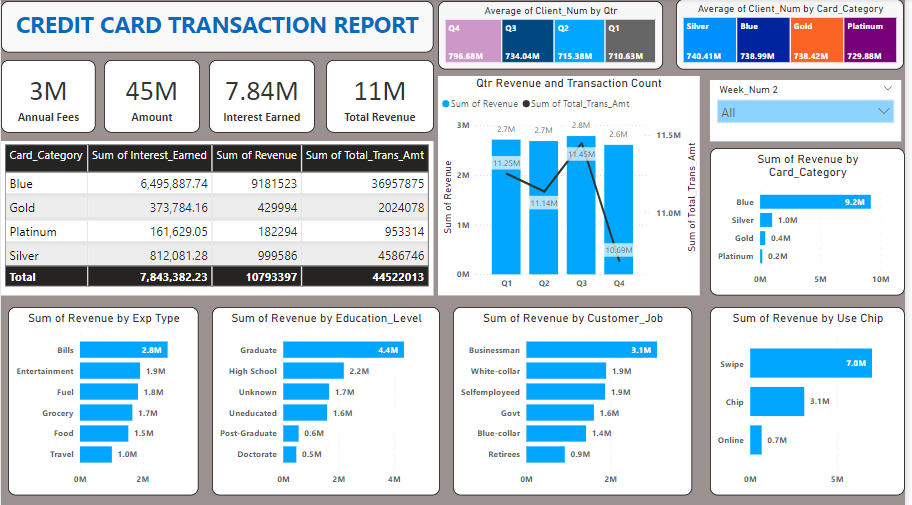

Layout of this report page (visuals, bound fields, positions):
{"tool":"powerbi","page":{"name":"CC Transaction","canvas":[1280,720],"ordinal":0},"visuals":[{"type":"textbox","box":[0,2.9,612.9,72.9],"z":0},{"type":"lineStackedColumnComboChart","title":"Qtr Revenue and Transaction Count","fields":{"Category":["credit_card.Qtr"],"Y":["Sum(credit_card.Revenue)"],"Y2":["Sum(credit_card.Total_Trans_Amt)"]},"box":[620,108.6,371.4,311.4],"z":1000},{"type":"actionButton","box":[0,0,100,40],"z":2000},{"type":"clusteredBarChart","fields":{"Y":["Sum(credit_card.Revenue)"],"Category":["credit_card.Exp Type"]},"box":[10,437.1,270,267.1],"z":3000},{"type":"clusteredBarChart","fields":{"Y":["Sum(credit_card.Revenue)"],"Category":["customer.Education_Level"]},"box":[298.6,437.1,322.9,267.1],"z":4000},{"type":"clusteredBarChart","fields":{"Y":["Sum(credit_card.Revenue)"],"Category":["customer.Customer_Job"]},"box":[640,437.1,338.6,267.1],"z":5000},{"type":"clusteredBarChart","fields":{"Y":["Sum(credit_card.Revenue)"],"Category":["credit_card.Card_Category"]},"box":[1004.3,211.4,275.7,208.6],"z":6000},{"type":"clusteredBarChart","fields":{"Y":["Sum(credit_card.Revenue)"],"Category":["credit_card.Use Chip"]},"box":[1004.3,437.1,275.7,267.1],"z":7000},{"type":"tableEx","fields":{"Values":["credit_card.Card_Category","Sum(credit_card.Interest_Earned)","Sum(credit_card.Revenue)","Sum(credit_card.Total_Trans_Amt)"]},"box":[0,201.4,612.9,218.6],"z":8000},{"type":"card","fields":{"Values":["Sum(credit_card.Revenue)"]},"box":[460,87.1,152.9,102.9],"z":9000},{"type":"card","fields":{"Values":["Sum(credit_card.Interest_Earned)"]},"box":[294.3,87.1,150,102.9],"z":10000},{"type":"card","fields":{"Values":["Sum(credit_card.Total_Trans_Amt)"]},"box":[145.7,87.1,135.7,102.9],"z":11000},{"type":"card","fields":{"Values":["Sum(credit_card.Annual_Fees)"]},"box":[0,87.1,134.3,102.9],"z":12000},{"type":"slicer","fields":{"Values":["credit_card.Week_Num 2"]},"box":[1004.3,114.3,271.4,87.1],"z":13000},{"type":"treemap","fields":{"Values":["Avg(credit_card.Client_Num)"],"Details":["credit_card.Qtr"]},"box":[620,2.9,318.6,97.1],"z":14000},{"type":"treemap","fields":{"Values":["Avg(credit_card.Client_Num)"],"Group":["credit_card.Card_Category"]},"box":[957.1,0,322.9,100],"z":15000}]}

Visuals, with their boxes in screenshot pixels (x1, y1, x2, y2), scaled from the page's 1280x720 canvas onto the 912x505 screenshot:
textbox: {"left": 0, "top": 2, "right": 437, "bottom": 53}
"Qtr Revenue and Transaction Count" lineStackedColumnComboChart: {"left": 442, "top": 76, "right": 706, "bottom": 295}
actionButton: {"left": 0, "top": 0, "right": 71, "bottom": 28}
clusteredBarChart - Sum(credit_card.Revenue) x credit_card.Exp Type: {"left": 7, "top": 307, "right": 200, "bottom": 494}
clusteredBarChart - Sum(credit_card.Revenue) x customer.Education_Level: {"left": 213, "top": 307, "right": 443, "bottom": 494}
clusteredBarChart - Sum(credit_card.Revenue) x customer.Customer_Job: {"left": 456, "top": 307, "right": 697, "bottom": 494}
clusteredBarChart - Sum(credit_card.Revenue) x credit_card.Card_Category: {"left": 716, "top": 148, "right": 911, "bottom": 295}
clusteredBarChart - Sum(credit_card.Revenue) x credit_card.Use Chip: {"left": 716, "top": 307, "right": 911, "bottom": 494}
tableEx - credit_card.Card_Category x Sum(credit_card.Interest_Earned): {"left": 0, "top": 141, "right": 437, "bottom": 295}
card - Sum(credit_card.Revenue): {"left": 328, "top": 61, "right": 437, "bottom": 133}
card - Sum(credit_card.Interest_Earned): {"left": 210, "top": 61, "right": 317, "bottom": 133}
card - Sum(credit_card.Total_Trans_Amt): {"left": 104, "top": 61, "right": 200, "bottom": 133}
card - Sum(credit_card.Annual_Fees): {"left": 0, "top": 61, "right": 96, "bottom": 133}
slicer - credit_card.Week_Num 2: {"left": 716, "top": 80, "right": 909, "bottom": 141}
treemap - Avg(credit_card.Client_Num) x credit_card.Qtr: {"left": 442, "top": 2, "right": 669, "bottom": 70}
treemap - Avg(credit_card.Client_Num) x credit_card.Card_Category: {"left": 682, "top": 0, "right": 911, "bottom": 70}
